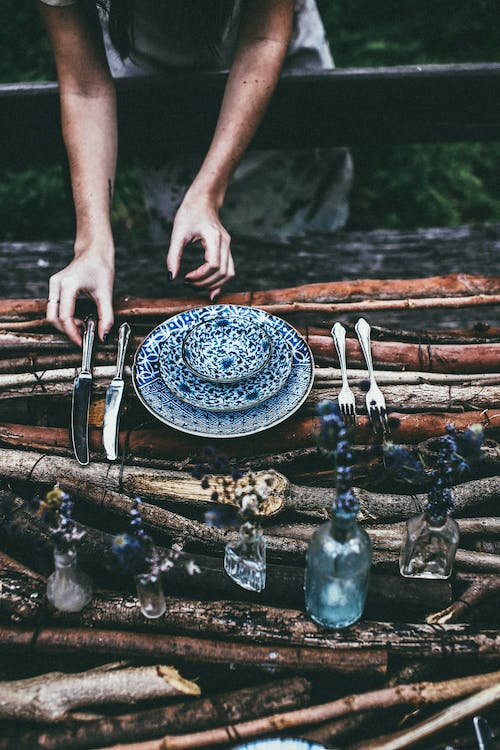knife: (99, 320, 133, 461), (70, 308, 99, 466)
